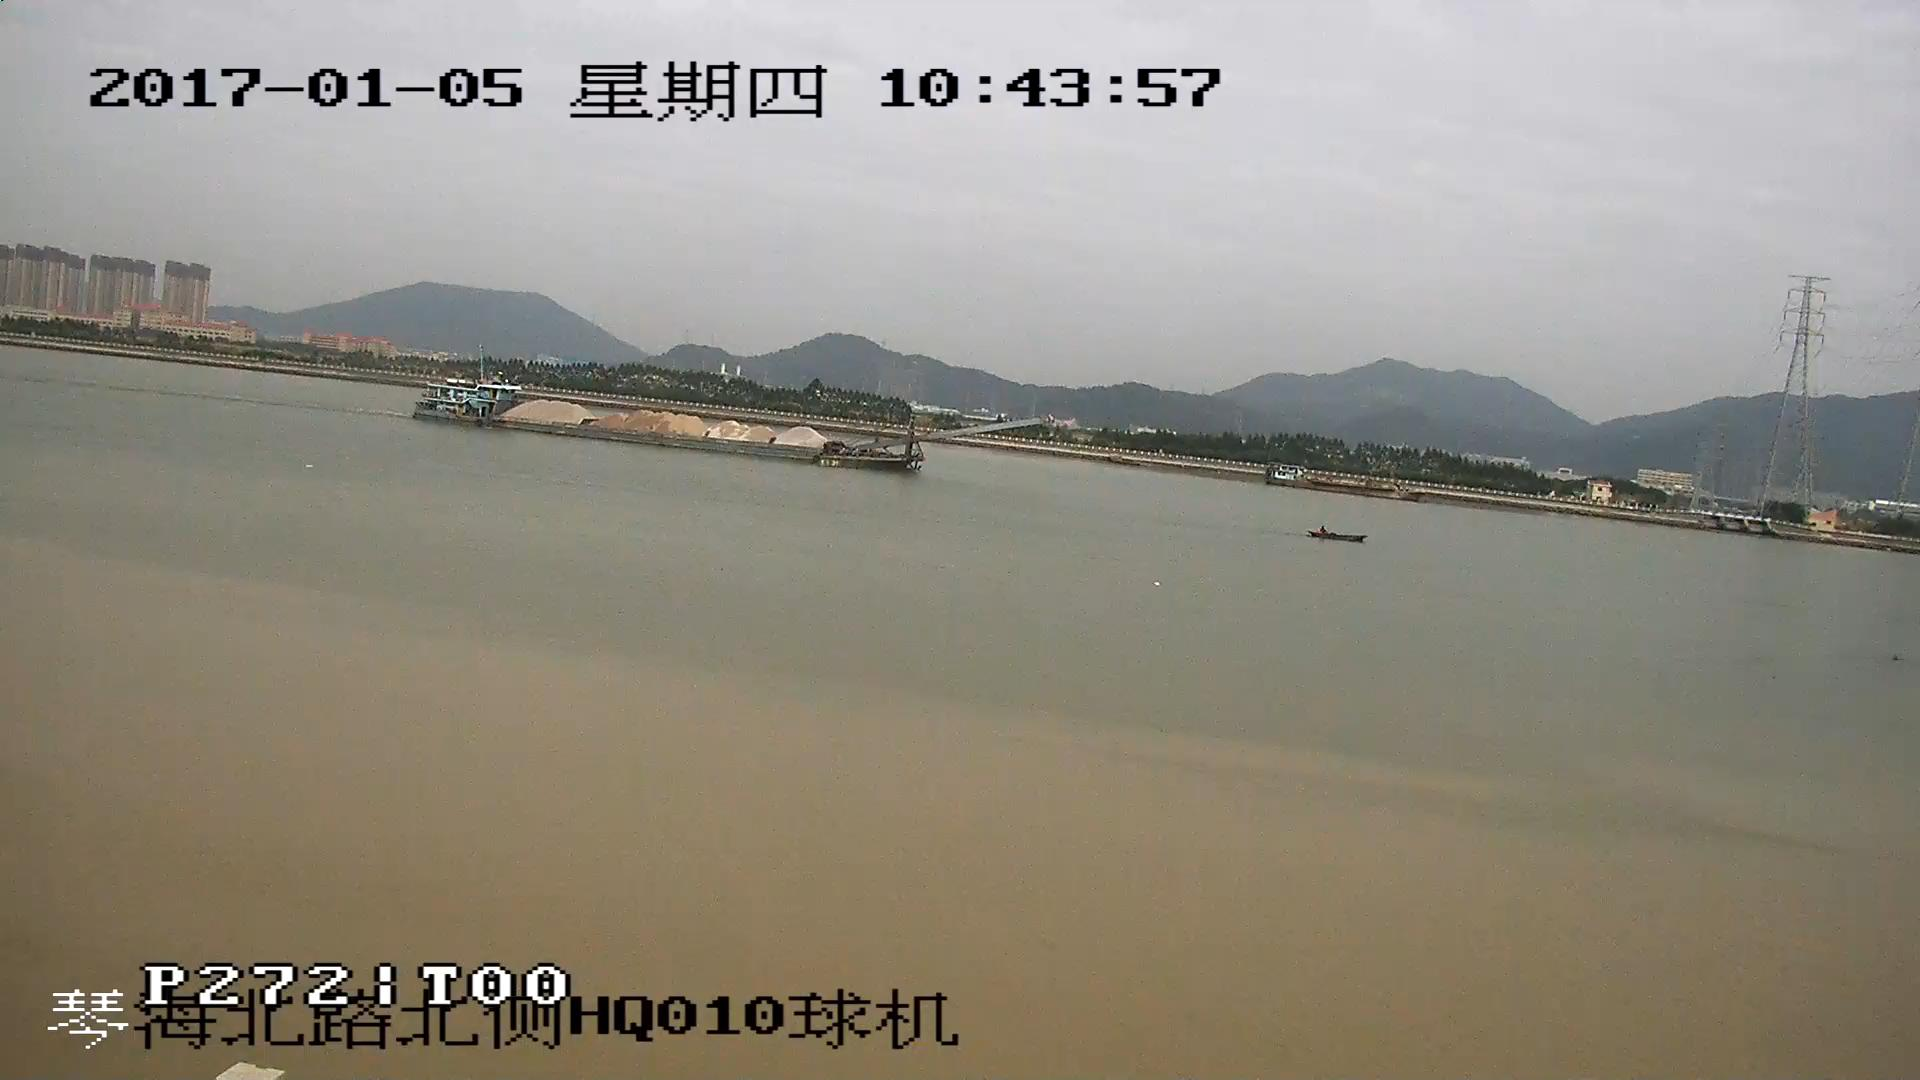fishing boat: (1311, 526, 1365, 546)
ore carrier: (421, 377, 1038, 468)
